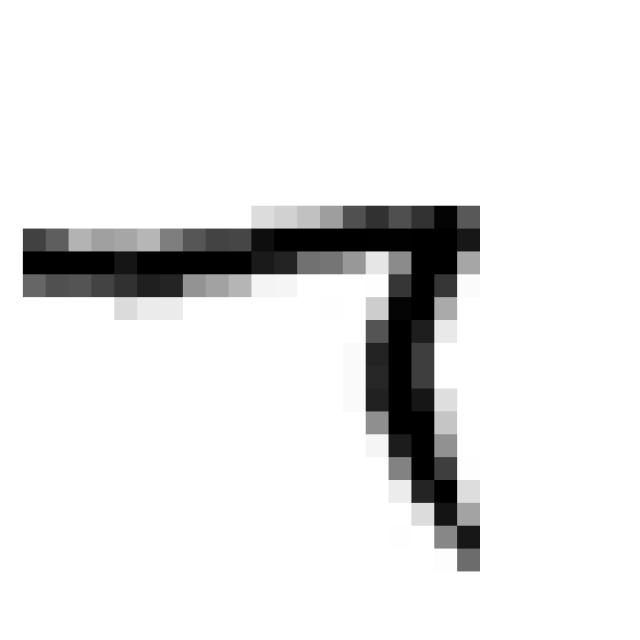6 -six-: (7, 186, 504, 594)
